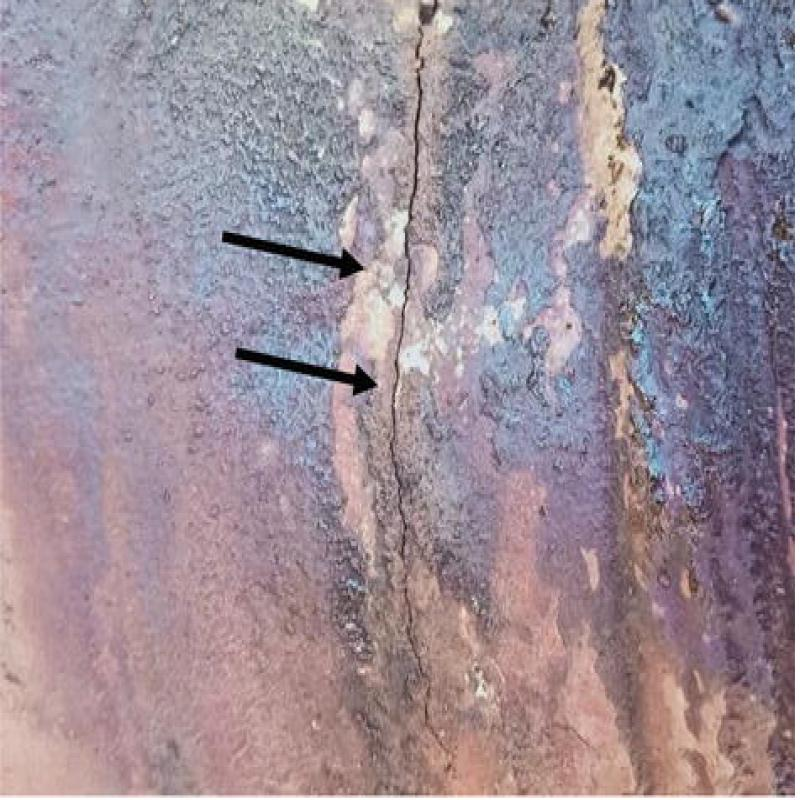Fracture: (388, 47, 425, 572)
